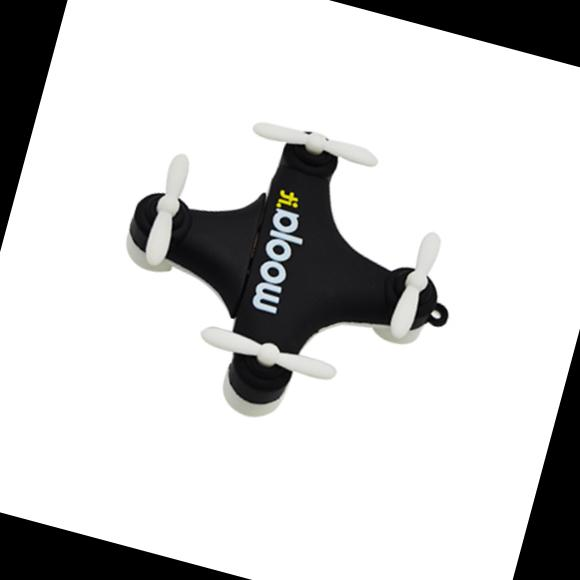drone: (82, 53, 528, 464)
